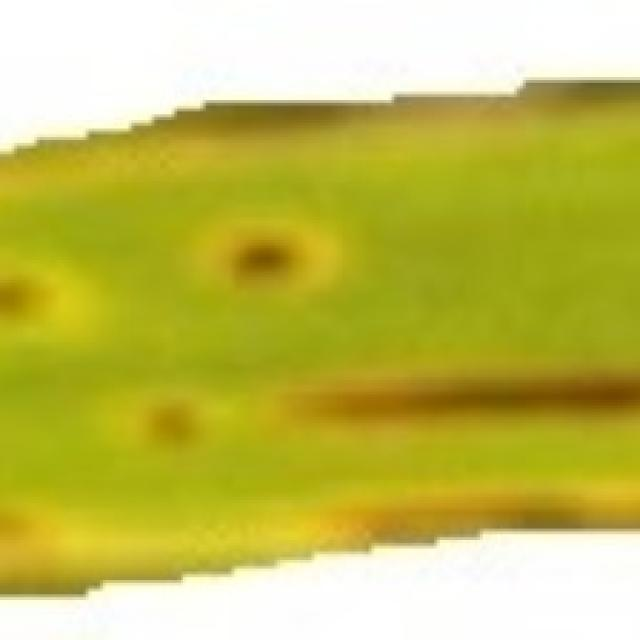Rice___Brown_Spot: (0, 80, 637, 596)
